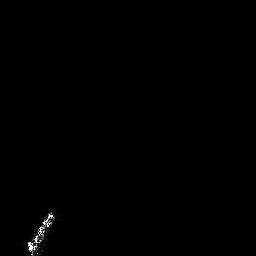ship: (23, 206, 61, 256)
